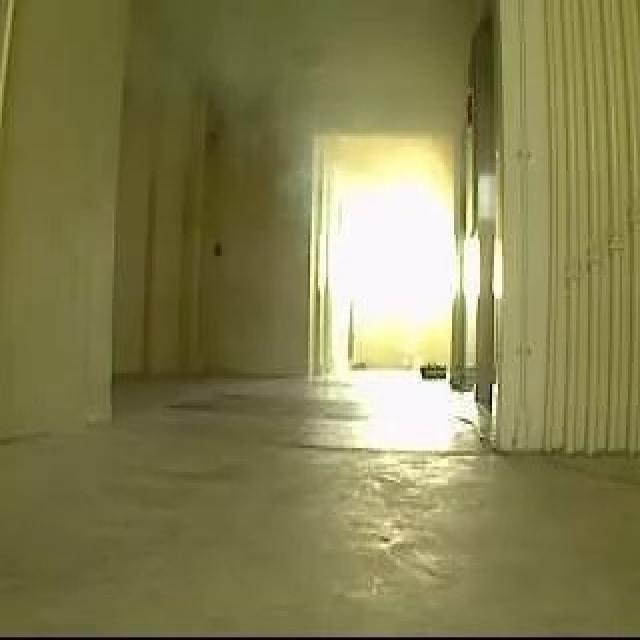smoke: (228, 14, 352, 183)
